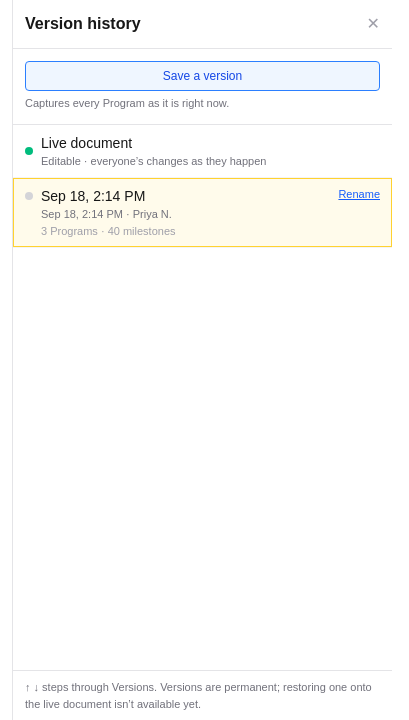
Test: VersionHistoryDock (wayframe#128) › renaming PATCHes the label only, and shows the new name straight away
Click the button "Rename" at [359, 194], box [338,186,380,202]
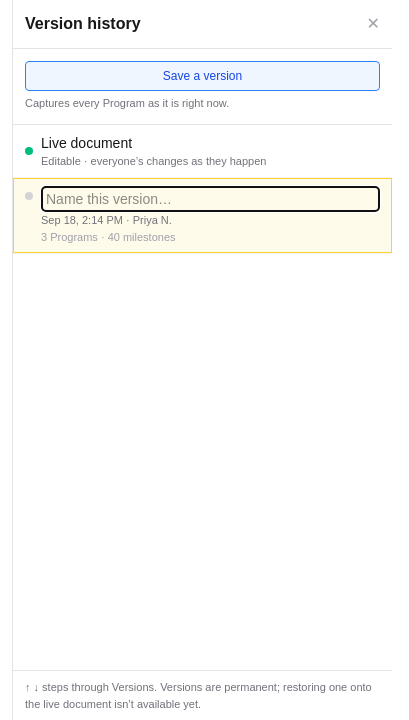
Type "  Board review  " into the field labelled "Name this version" at [210, 199], box [41,186,380,212]
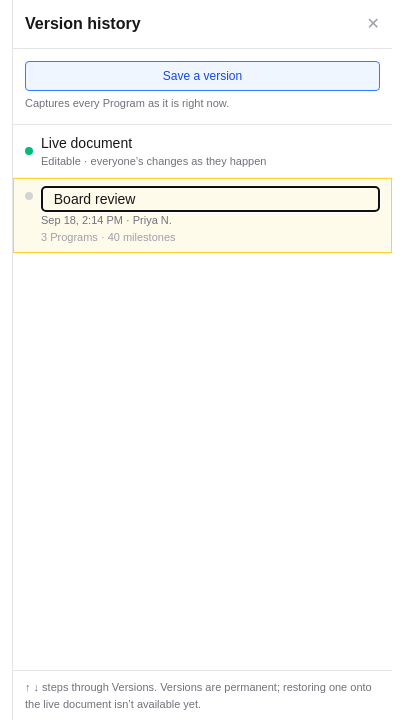
Leave the field named "Name this version", box [41,186,380,212]
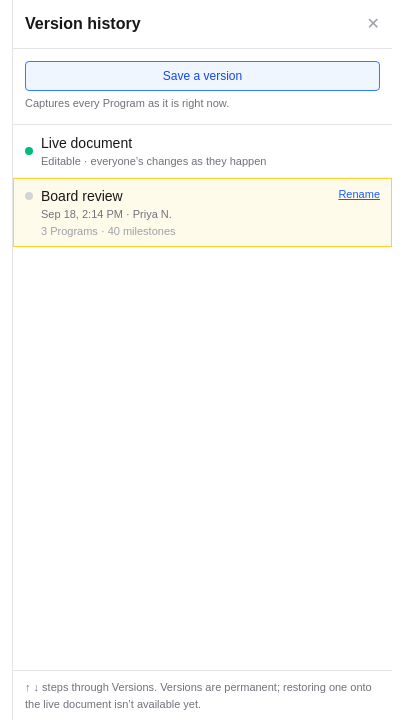
Result: the text "Board review" is shown at [41,188,123,204]
